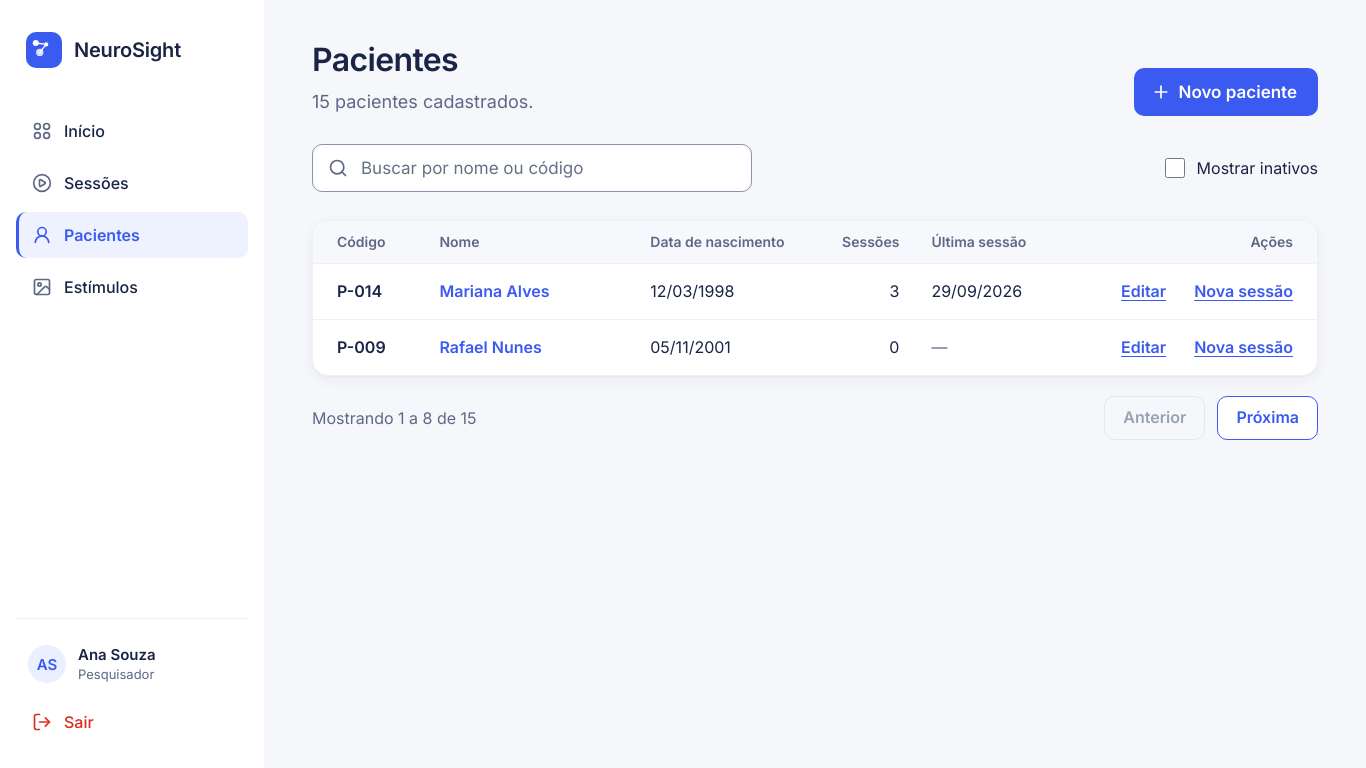
it: W06 Lista de pacientes › mostra os inativos pelo filtro, sem "Nova sessão" para eles
The image size is (1366, 768).
Click the checkbox labelled "Mostrar inativos" at (1175, 168), box x1=1165 y1=158 x2=1185 y2=178
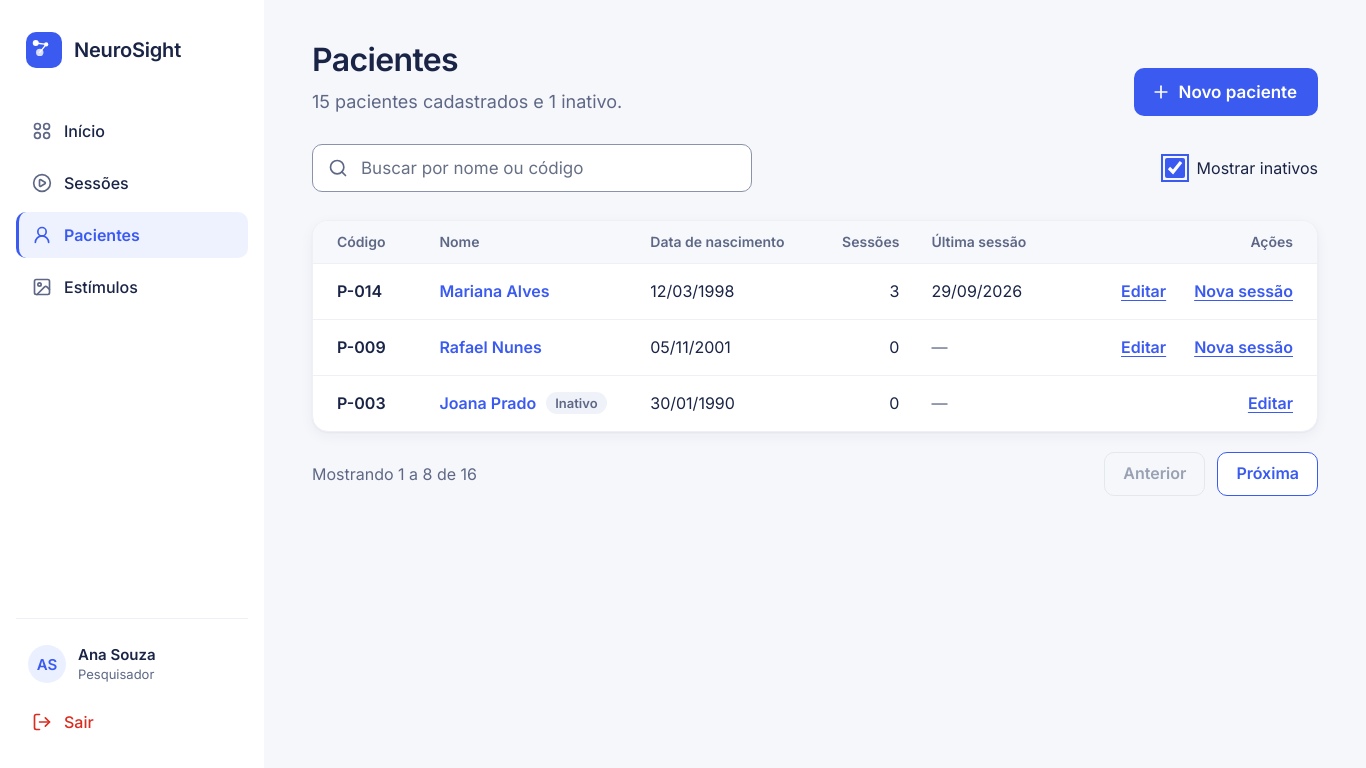
Check: the text "15 pacientes cadastrados e 1 inativo." is shown, box x1=312 y1=91 x2=622 y2=112
Check: the text "Inativo" is shown, box x1=546 y1=392 x2=607 y2=414
